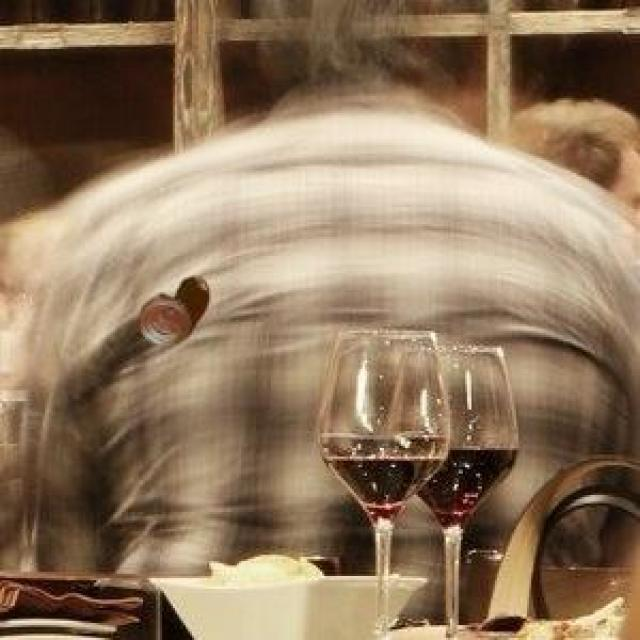logam: (135, 274, 206, 342)
